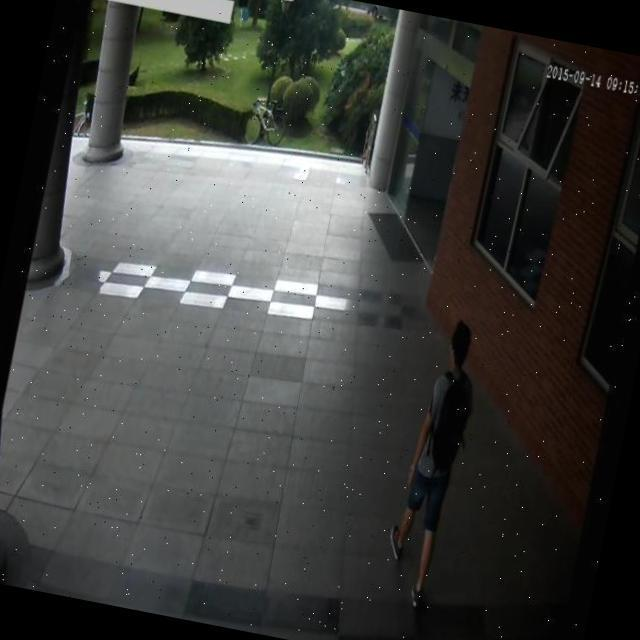person: (374, 307, 488, 618)
